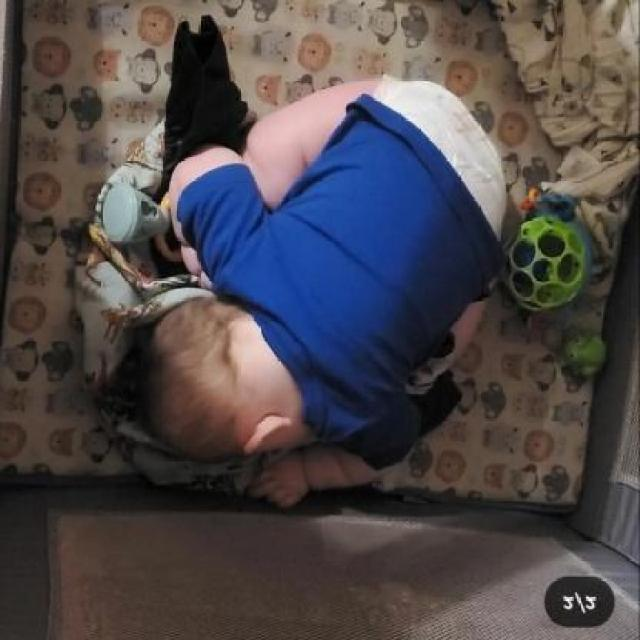baby: (123, 76, 508, 512)
